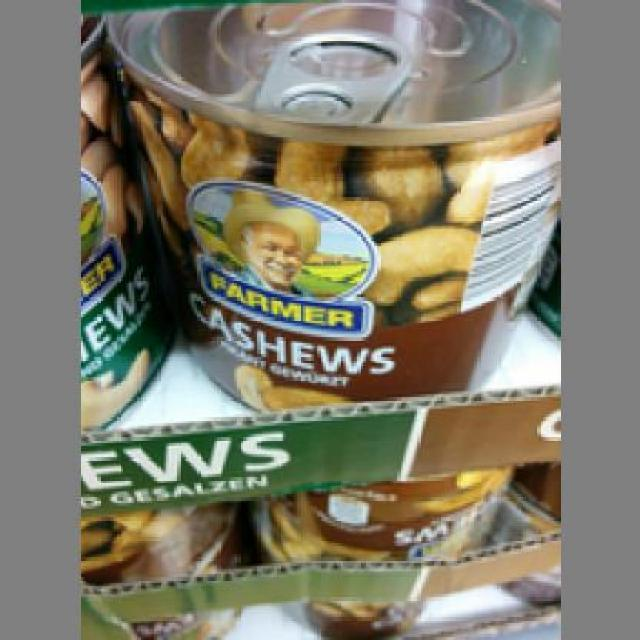Nuts: (98, 0, 555, 412)
